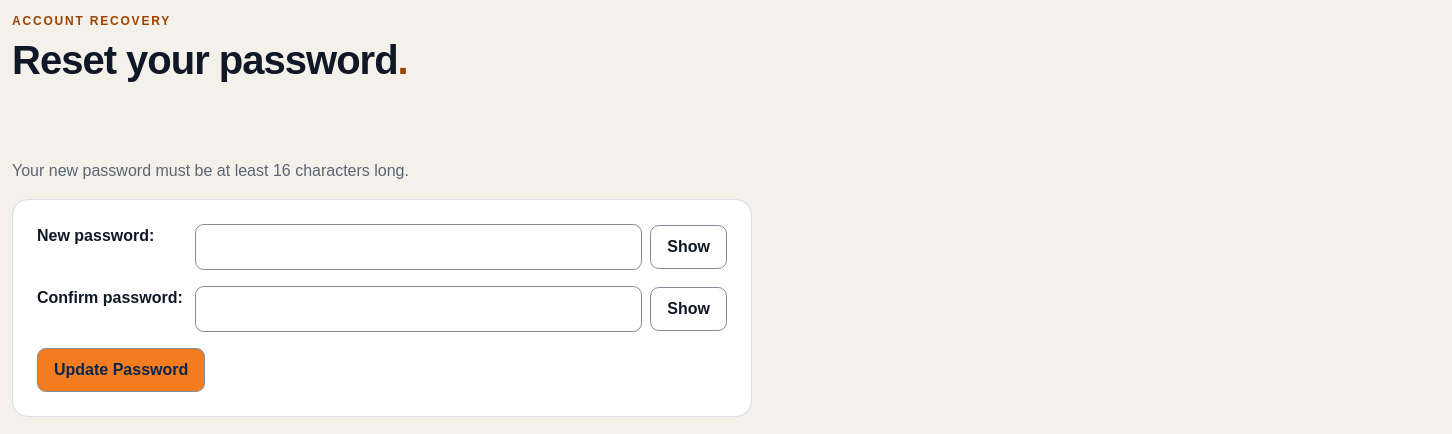
removes an unusable recovery form and offers a sign-in path when the session has expired
Type "Invented-Recovery-2026!" into the password field labelled "New password:" at (419, 247), box [195,224,642,270]
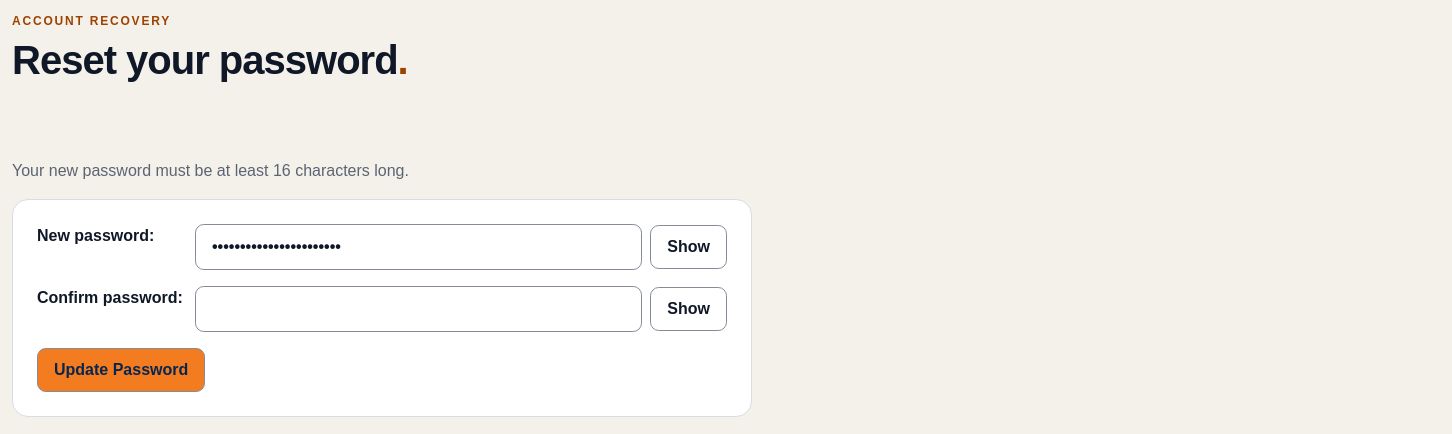
Type "Invented-Recovery-2026!" into the password field labelled "Confirm password:" at (419, 309), box [195,286,642,332]
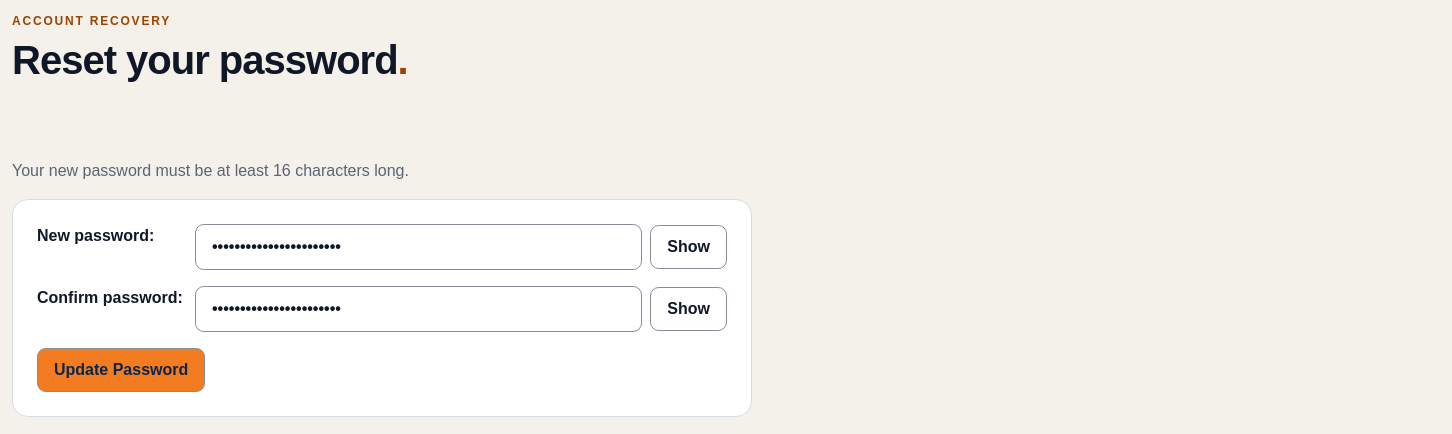
Click the button "Update Password" at (121, 370), box [37,348,205,392]
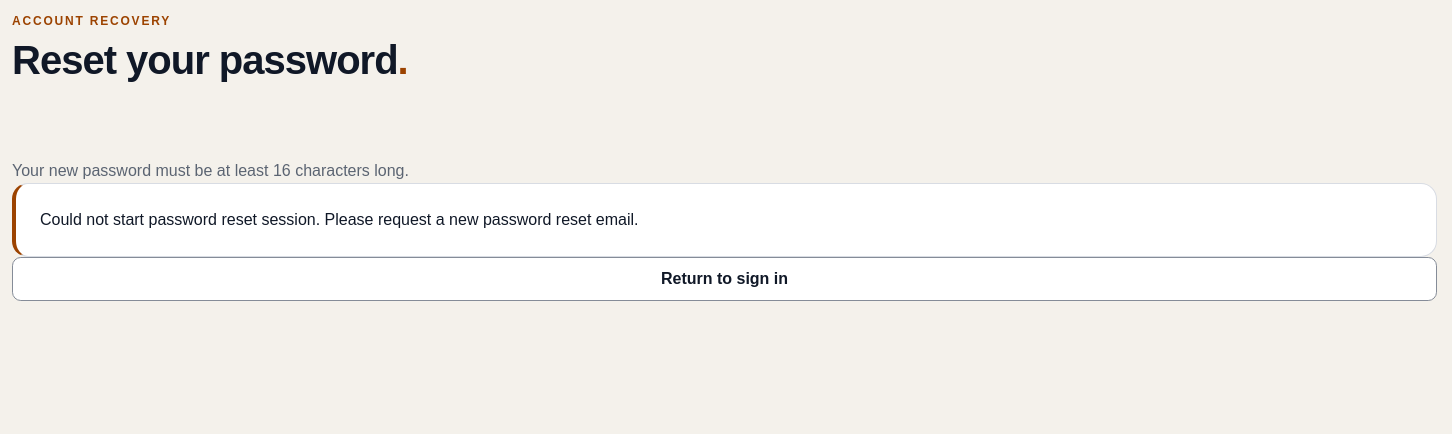
Now the button "Update Password" is gone
